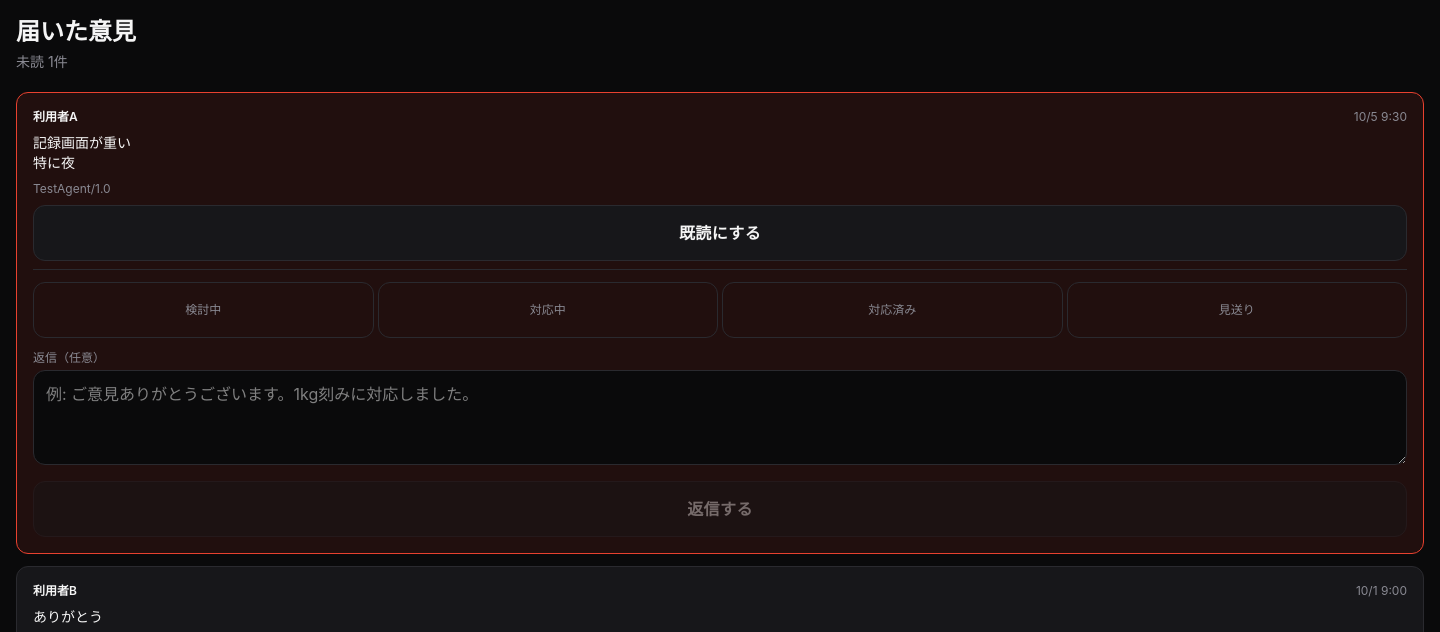
AdminFeedbackPage › marks a note read once even when tapped twice
Click the button "既読にする". click: click(720, 233)
box: [33, 205, 1407, 261]
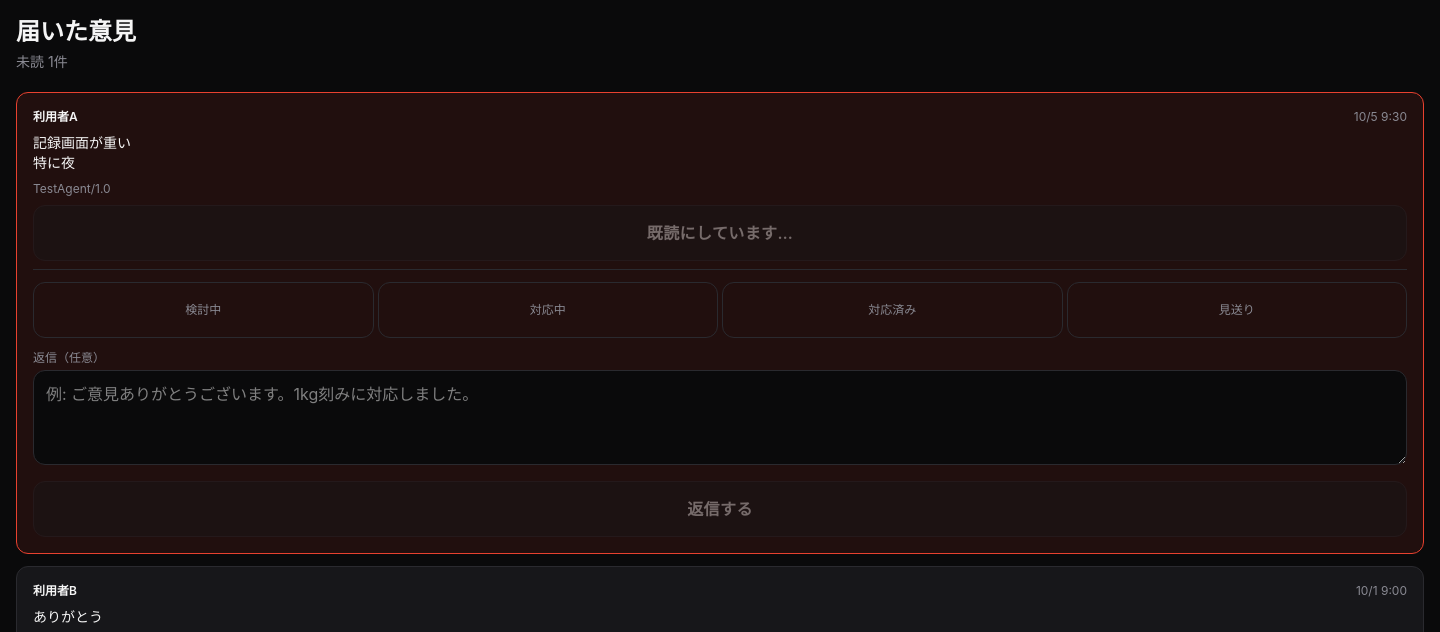
Click the button "既読にしています…". click: click(720, 233)
box: [33, 205, 1407, 261]
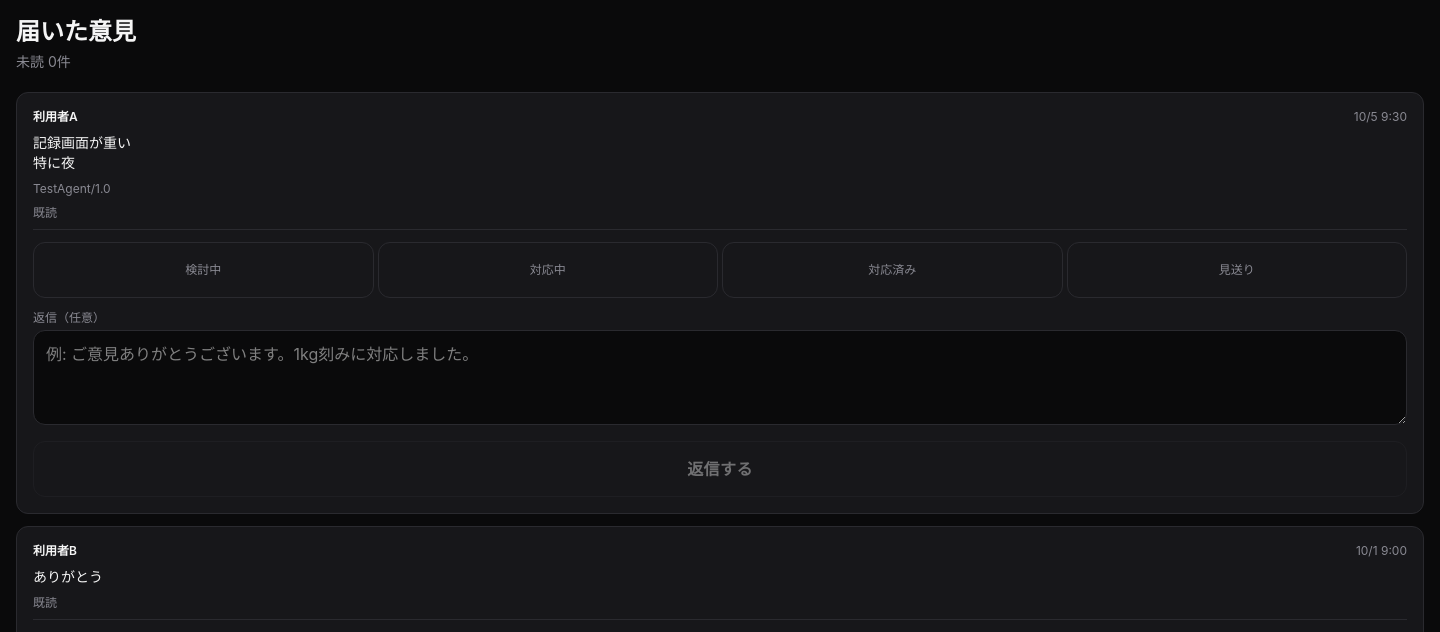
Expected: the text "既読" below "利用者A" is shown, [33, 205, 57, 220]
Expected: the text "未読 0件" is shown, [16, 53, 71, 70]
